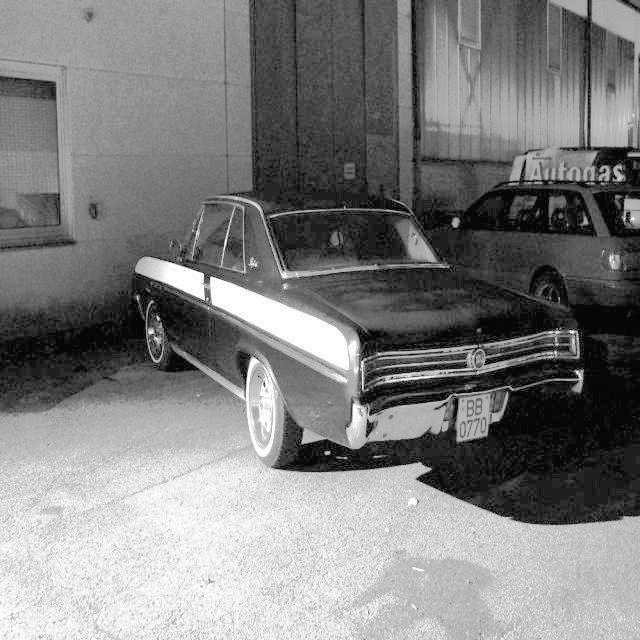Car: (129, 150, 539, 533), (490, 124, 640, 346)
